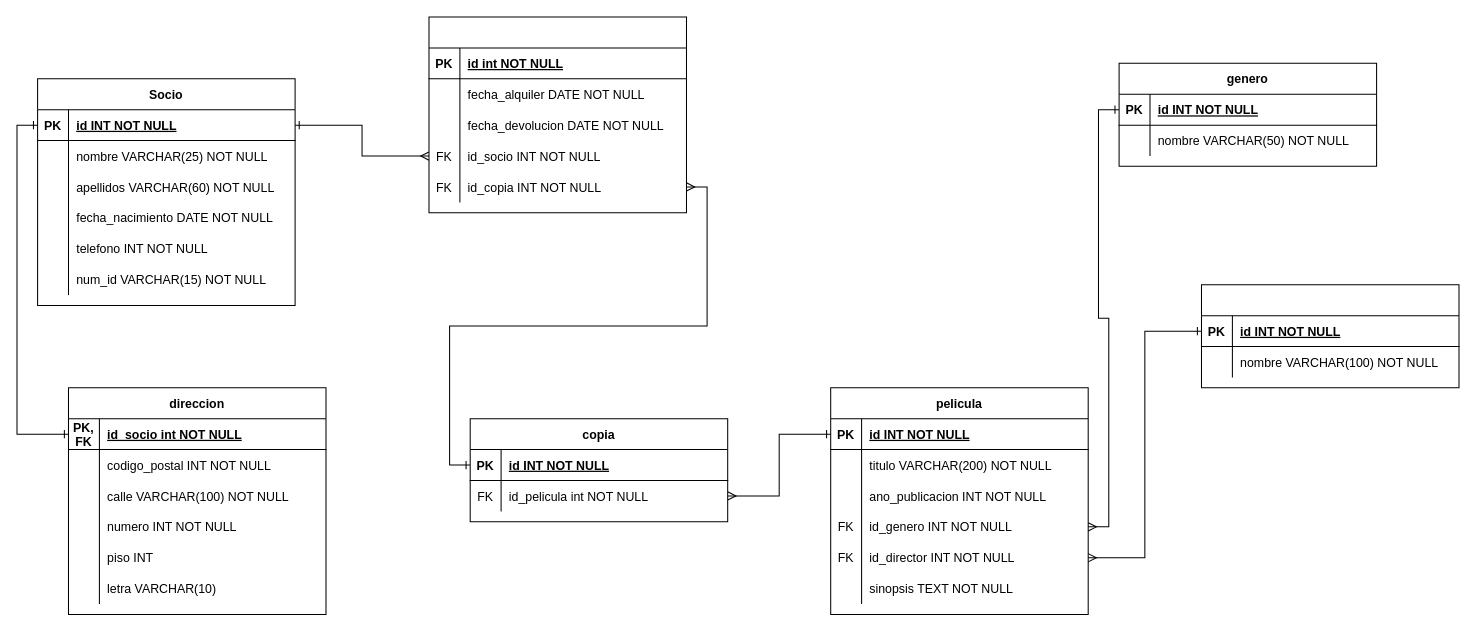
The diagram is 1476 pixels wide and 631 high, and some of its shapes have lost their labels. The shapes that lost their labels are listed below. From the top down, each one's box as (x1, y1, x2, y2) in pixels, then its label:
(428, 16, 686, 213): prestamo
(1200, 284, 1459, 388): director
